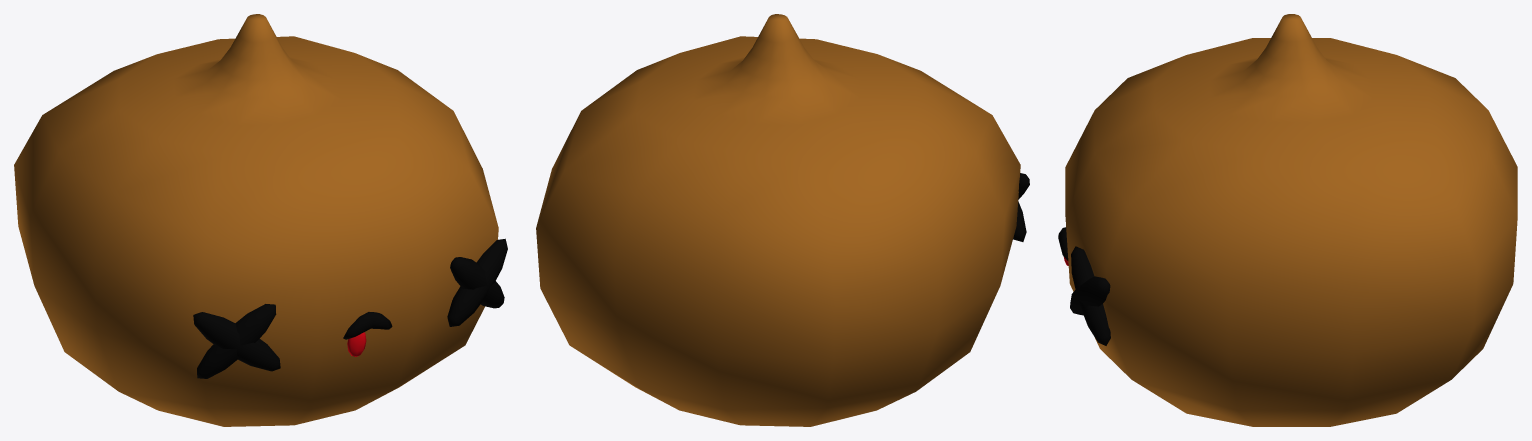
The model's file is Onion(dead).fbx.
The picture shows the model from 3 angles, left to right: view 1: azimuth 30°, elevation 25°; view 2: azimuth 150°, elevation 25°; view 3: azimuth 270°, elevation 25°; orthographic projection.
Visible parts, largest first — view 1: Onion(dead); view 2: Onion(dead); view 3: Onion(dead).
Part boxes in pixels (bbox=[...]): Onion(dead): bbox=[14, 14, 507, 426]; Onion(dead): bbox=[536, 14, 1029, 426]; Onion(dead): bbox=[1058, 14, 1517, 426].
Size of the model in its own units: 118 by 111 by 121.
